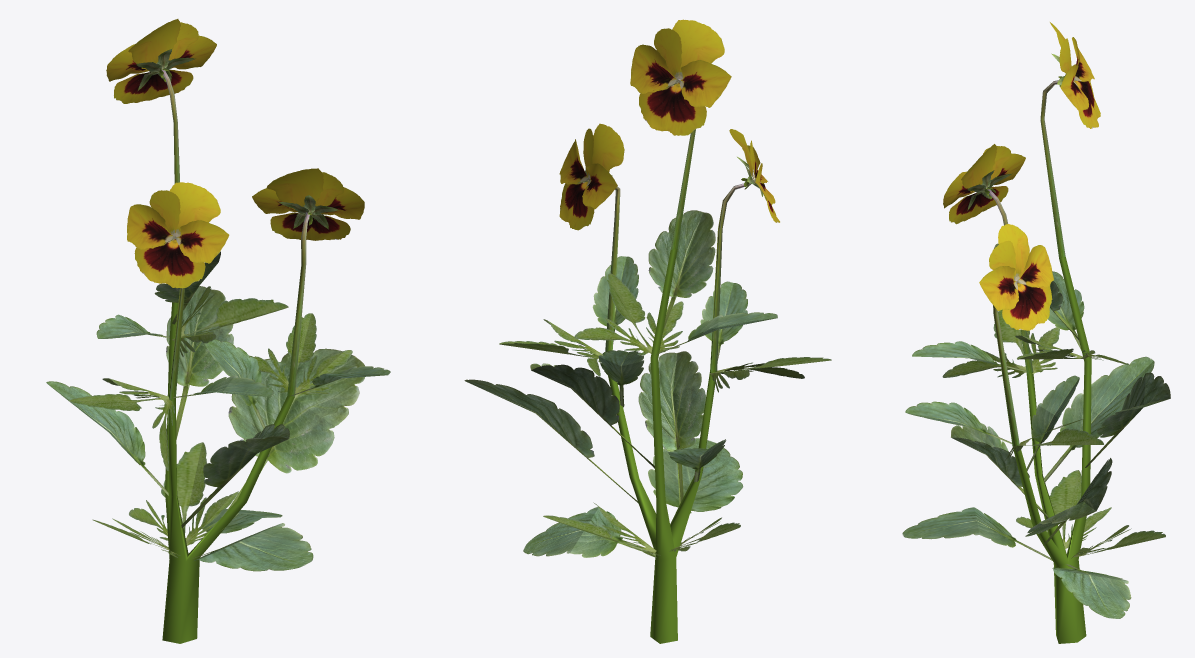
The model's file is Viola2D.fbx.
3 renders of one model, left to right at view 1: azimuth 30°, elevation 25°; view 2: azimuth 150°, elevation 25°; view 3: azimuth 270°, elevation 25°, orthographic. The views are drawn at different scales.
Parts seen in each view (by area): view 1: Viola2D_LOD0; view 2: Viola2D_LOD0; view 3: Viola2D_LOD0.
Boxes of the visible parts, x1=… form: Viola2D_LOD0: x1=46, y1=19, x2=390, y2=643; Viola2D_LOD0: x1=464, y1=19, x2=831, y2=643; Viola2D_LOD0: x1=902, y1=22, x2=1170, y2=643.
Size of what is drawn, in the model's own units: 43.89 by 73.55 by 34.62.
